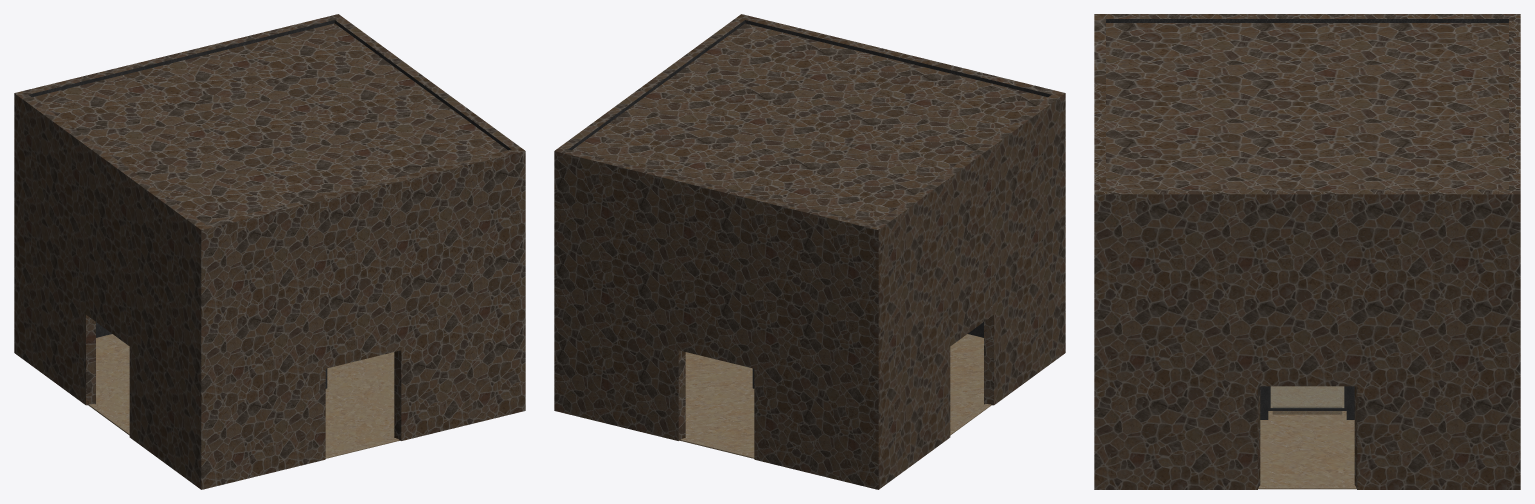
Rendered from Museum.fbx.
The picture shows the model from 3 angles, left to right: view 1: azimuth 30°, elevation 25°; view 2: azimuth 150°, elevation 25°; view 3: azimuth 270°, elevation 25°; orthographic projection. The views are drawn at different scales.
Parts seen in each view (by area): view 1: Museum; view 2: Museum; view 3: Museum, ElevatorDown, ElevatorFloor, ElevatorSkeleton.
Part boxes in pixels (box(x1,y1,x2,y2)): Museum: box(14, 14, 525, 489); Museum: box(554, 14, 1065, 489); Museum: box(1094, 14, 1520, 489); ElevatorDown: box(1268, 386, 1346, 410); ElevatorFloor: box(1272, 386, 1342, 414); ElevatorSkeleton: box(1260, 386, 1354, 419).
Size of the model in its own units: 9.8 by 7.52 by 9.8.
